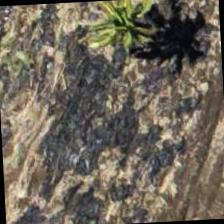Kelapa_Sawit: (82, 0, 177, 74)
